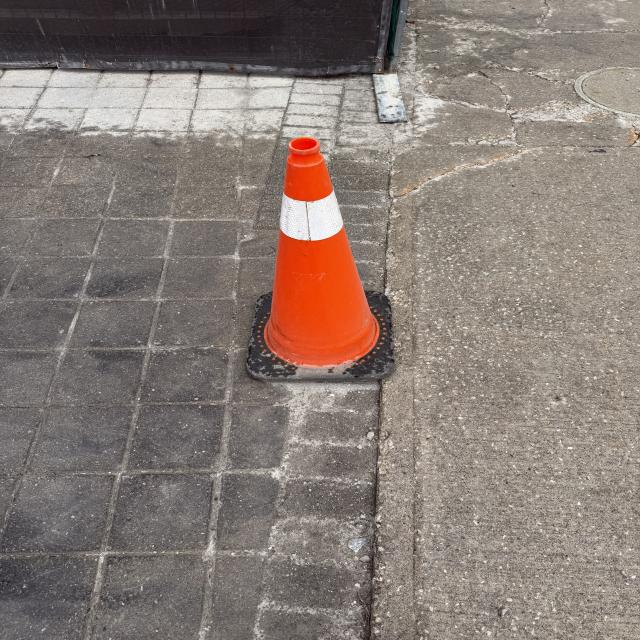Traffic Cone: (247, 139, 399, 381)
